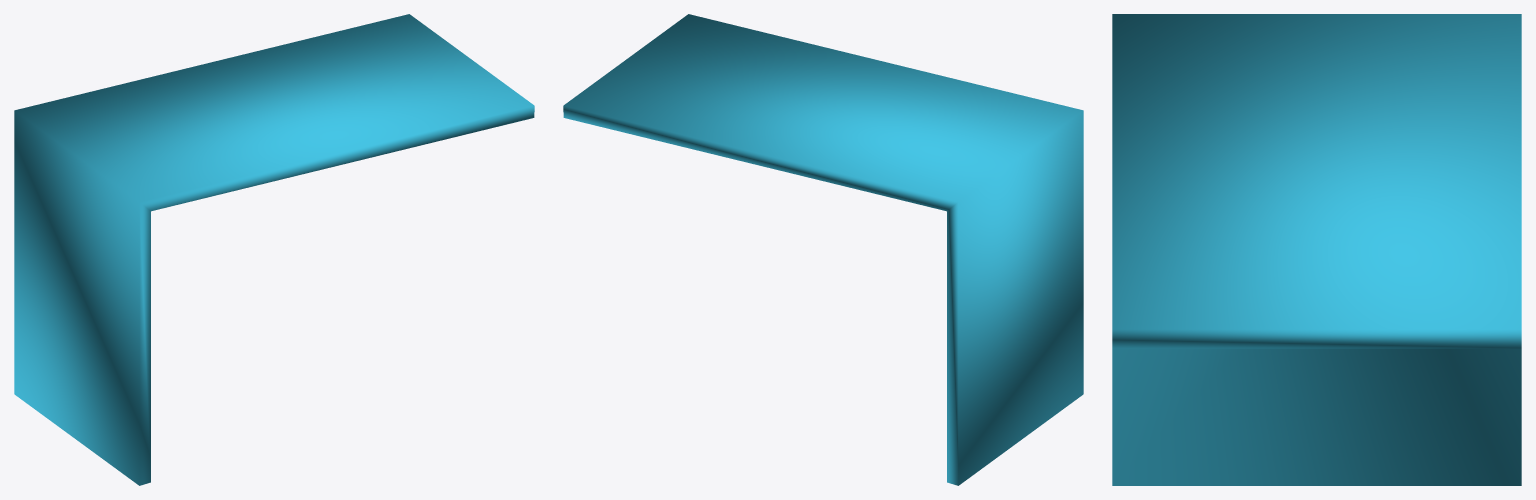
Rendered from glass7.fbx.
The picture shows the model from 3 angles, left to right: view 1: azimuth 30°, elevation 25°; view 2: azimuth 150°, elevation 25°; view 3: azimuth 270°, elevation 25°; orthographic projection. The views are drawn at different scales.
Visible parts, largest first — view 1: Plane_010; view 2: Plane_010; view 3: Plane_010.
Boxes of the visible parts, bbox=[...] form: Plane_010: bbox=[14, 14, 534, 485]; Plane_010: bbox=[563, 14, 1083, 485]; Plane_010: bbox=[1112, 14, 1521, 485].
Bounding box in the file's own units: 7.29 × 5 × 4.
Materials: 1 (1 with a texture image).
